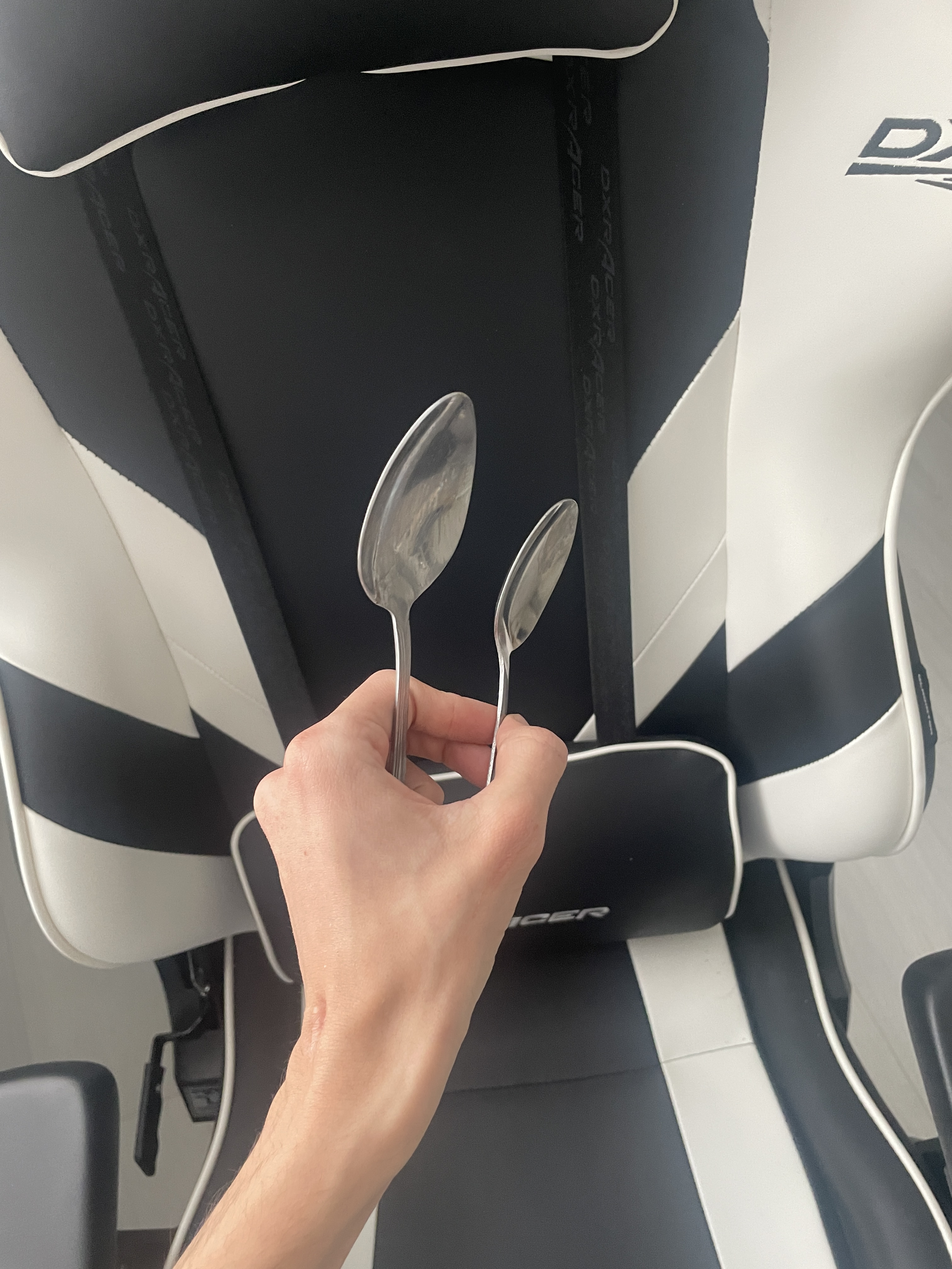spoon: (358, 392, 476, 781), (486, 499, 578, 788)
